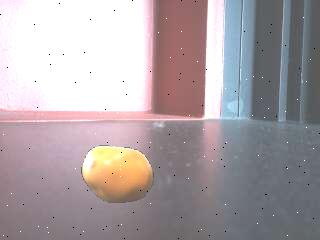Potato: (82, 144, 152, 204)
